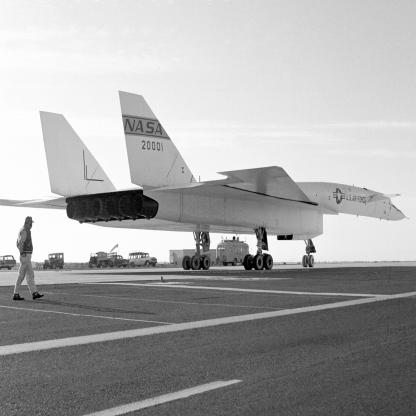XB70: (1, 92, 410, 271)
